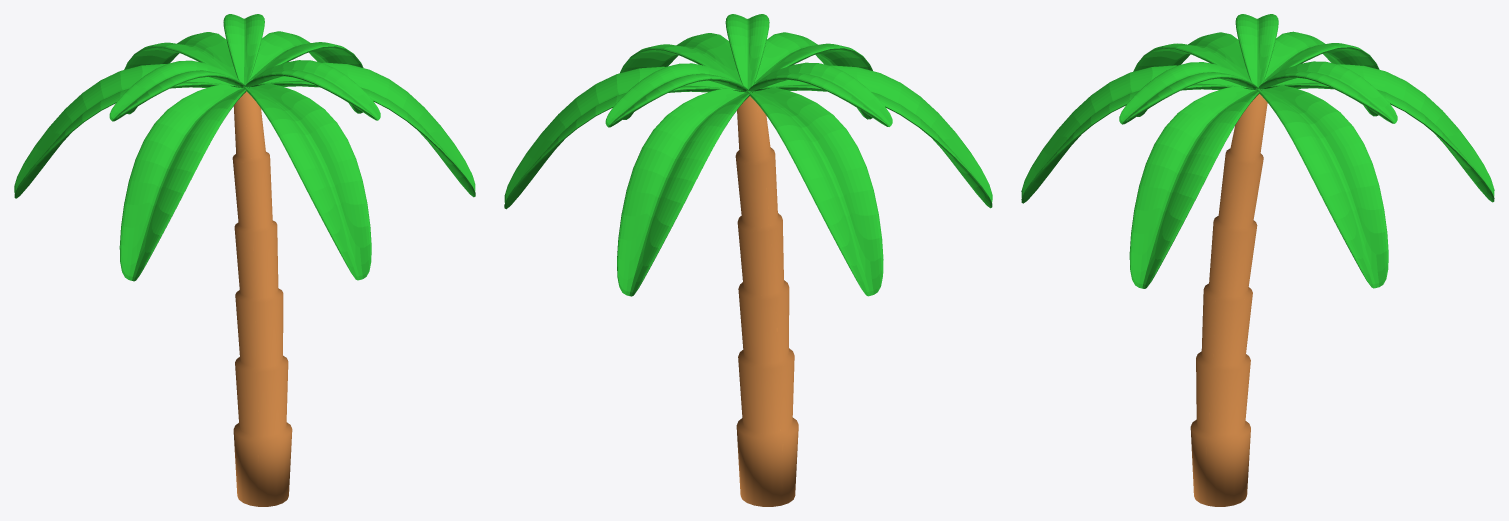
File: Trees.fbx
The picture shows the model from 3 angles, left to right: view 1: azimuth 30°, elevation 25°; view 2: azimuth 150°, elevation 25°; view 3: azimuth 270°, elevation 25°; orthographic projection. The views are drawn at different scales.
Visible parts, largest first — view 1: Leaves, Trunk; view 2: Leaves, Trunk; view 3: Leaves, Trunk.
Boxes of the visible parts, bbox=[...] form: Leaves: bbox=[14, 14, 475, 281]; Trunk: bbox=[232, 91, 292, 506]; Leaves: bbox=[504, 14, 992, 296]; Trunk: bbox=[735, 96, 798, 506]; Leaves: bbox=[1021, 14, 1494, 288]; Trunk: bbox=[1190, 94, 1267, 506].
Size of the model in its own units: 622 by 718 by 697.
2 materials, 2 textured.
